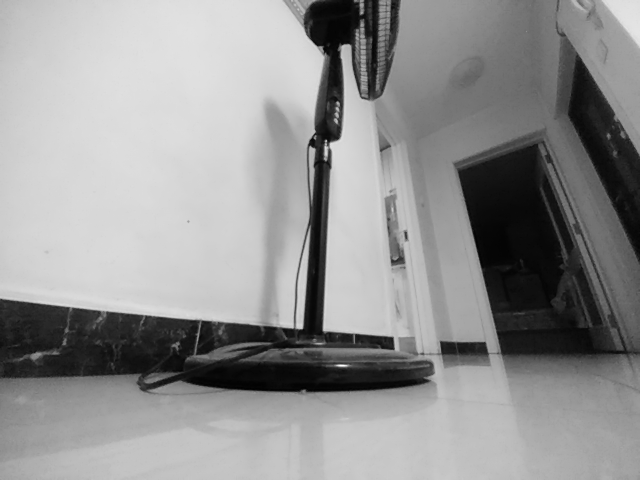bar stool: (180, 316, 435, 392)
